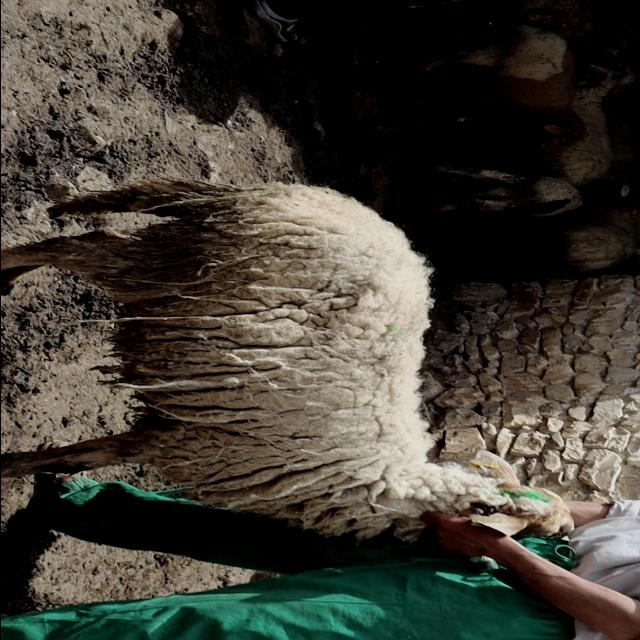Score_2: (1, 178, 571, 540)
